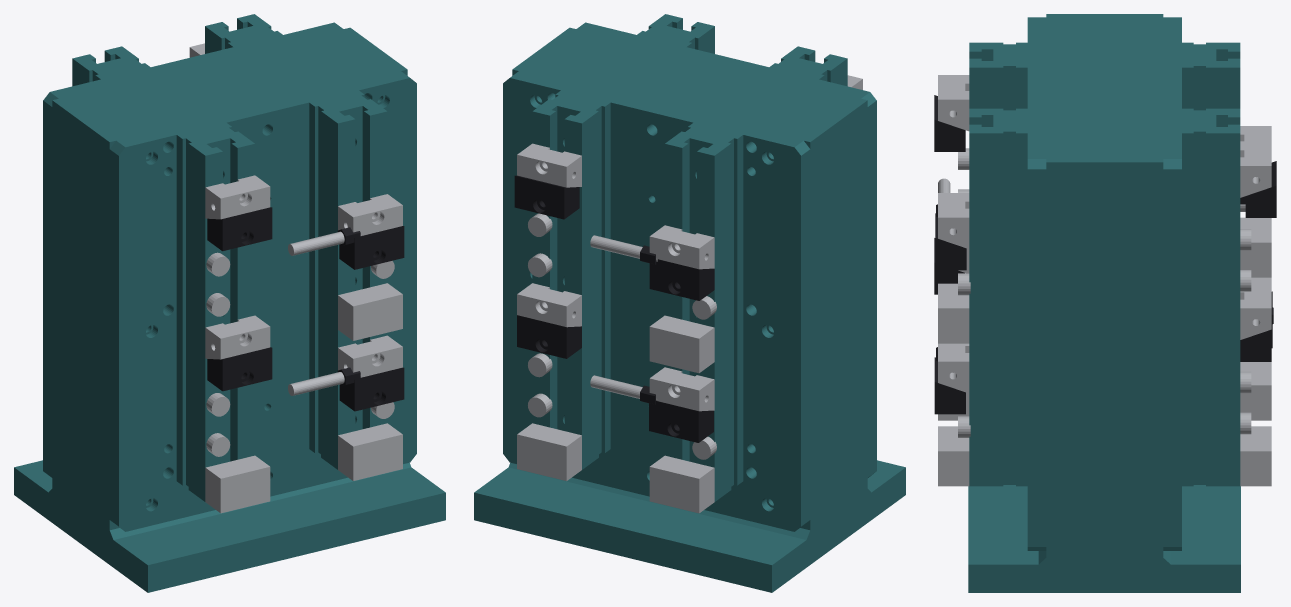
The model's file is fixture_part00_phase10.glb.
The picture shows the model from 3 angles, left to right: view 1: azimuth 30°, elevation 25°; view 2: azimuth 150°, elevation 25°; view 3: azimuth 270°, elevation 25°; orthographic projection.
Visible parts, largest first — view 1: fixture__fx_paint, fixture__fx_steel, gripper_jaw_4__fx_oxide, gripper_jaw_3__fx_oxide, gripper_jaw_5__fx_oxide, gripper_jaw_8__fx_oxide; view 2: fixture__fx_paint, fixture__fx_steel, gripper_jaw_7__fx_oxide, gripper_jaw_6__fx_oxide, gripper_jaw_1__fx_oxide, gripper_jaw_2__fx_oxide; view 3: fixture__fx_paint, fixture__fx_steel, gripper_jaw_7__fx_oxide, gripper_jaw_5__fx_oxide, gripper_jaw_3__fx_oxide, gripper_jaw_8__fx_oxide, gripper_jaw_6__fx_oxide, gripper_jaw_4__fx_oxide.
Boxes of the visible parts, <box> form: fixture__fx_paint: <box>14,14,445,592</box>; fixture__fx_steel: <box>189,43,402,513</box>; gripper_jaw_4__fx_oxide: <box>207,347,272,391</box>; gripper_jaw_3__fx_oxide: <box>207,207,272,251</box>; gripper_jaw_5__fx_oxide: <box>339,367,404,411</box>; gripper_jaw_8__fx_oxide: <box>339,226,404,269</box>; fixture__fx_paint: <box>474,14,905,592</box>; fixture__fx_steel: <box>517,75,862,513</box>; gripper_jaw_7__fx_oxide: <box>514,175,579,219</box>; gripper_jaw_6__fx_oxide: <box>517,315,581,358</box>; gripper_jaw_1__fx_oxide: <box>649,401,713,442</box>; gripper_jaw_2__fx_oxide: <box>649,259,714,300</box>; fixture__fx_paint: <box>968,14,1240,592</box>; fixture__fx_steel: <box>938,75,1271,486</box>; gripper_jaw_7__fx_oxide: <box>1245,161,1276,217</box>; gripper_jaw_5__fx_oxide: <box>934,357,965,414</box>; gripper_jaw_3__fx_oxide: <box>934,95,965,151</box>; gripper_jaw_8__fx_oxide: <box>935,213,966,270</box>; gripper_jaw_6__fx_oxide: <box>1240,329,1271,361</box>; gripper_jaw_4__fx_oxide: <box>934,238,964,294</box>.
Bounding box in the file's own units: 0.45 × 0.61 × 0.4396.
